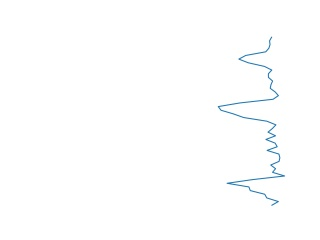underwaterNaturalLevee: (213, 36, 289, 209)
